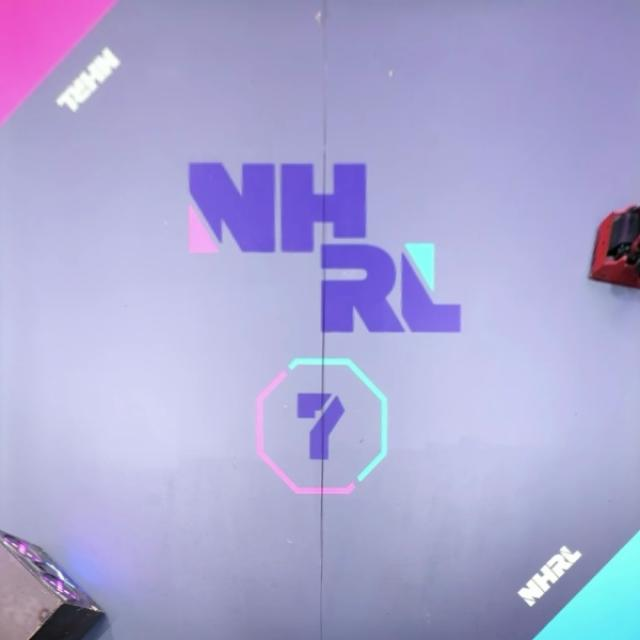housebot: (0, 531, 105, 640)
robot: (586, 201, 640, 290)
